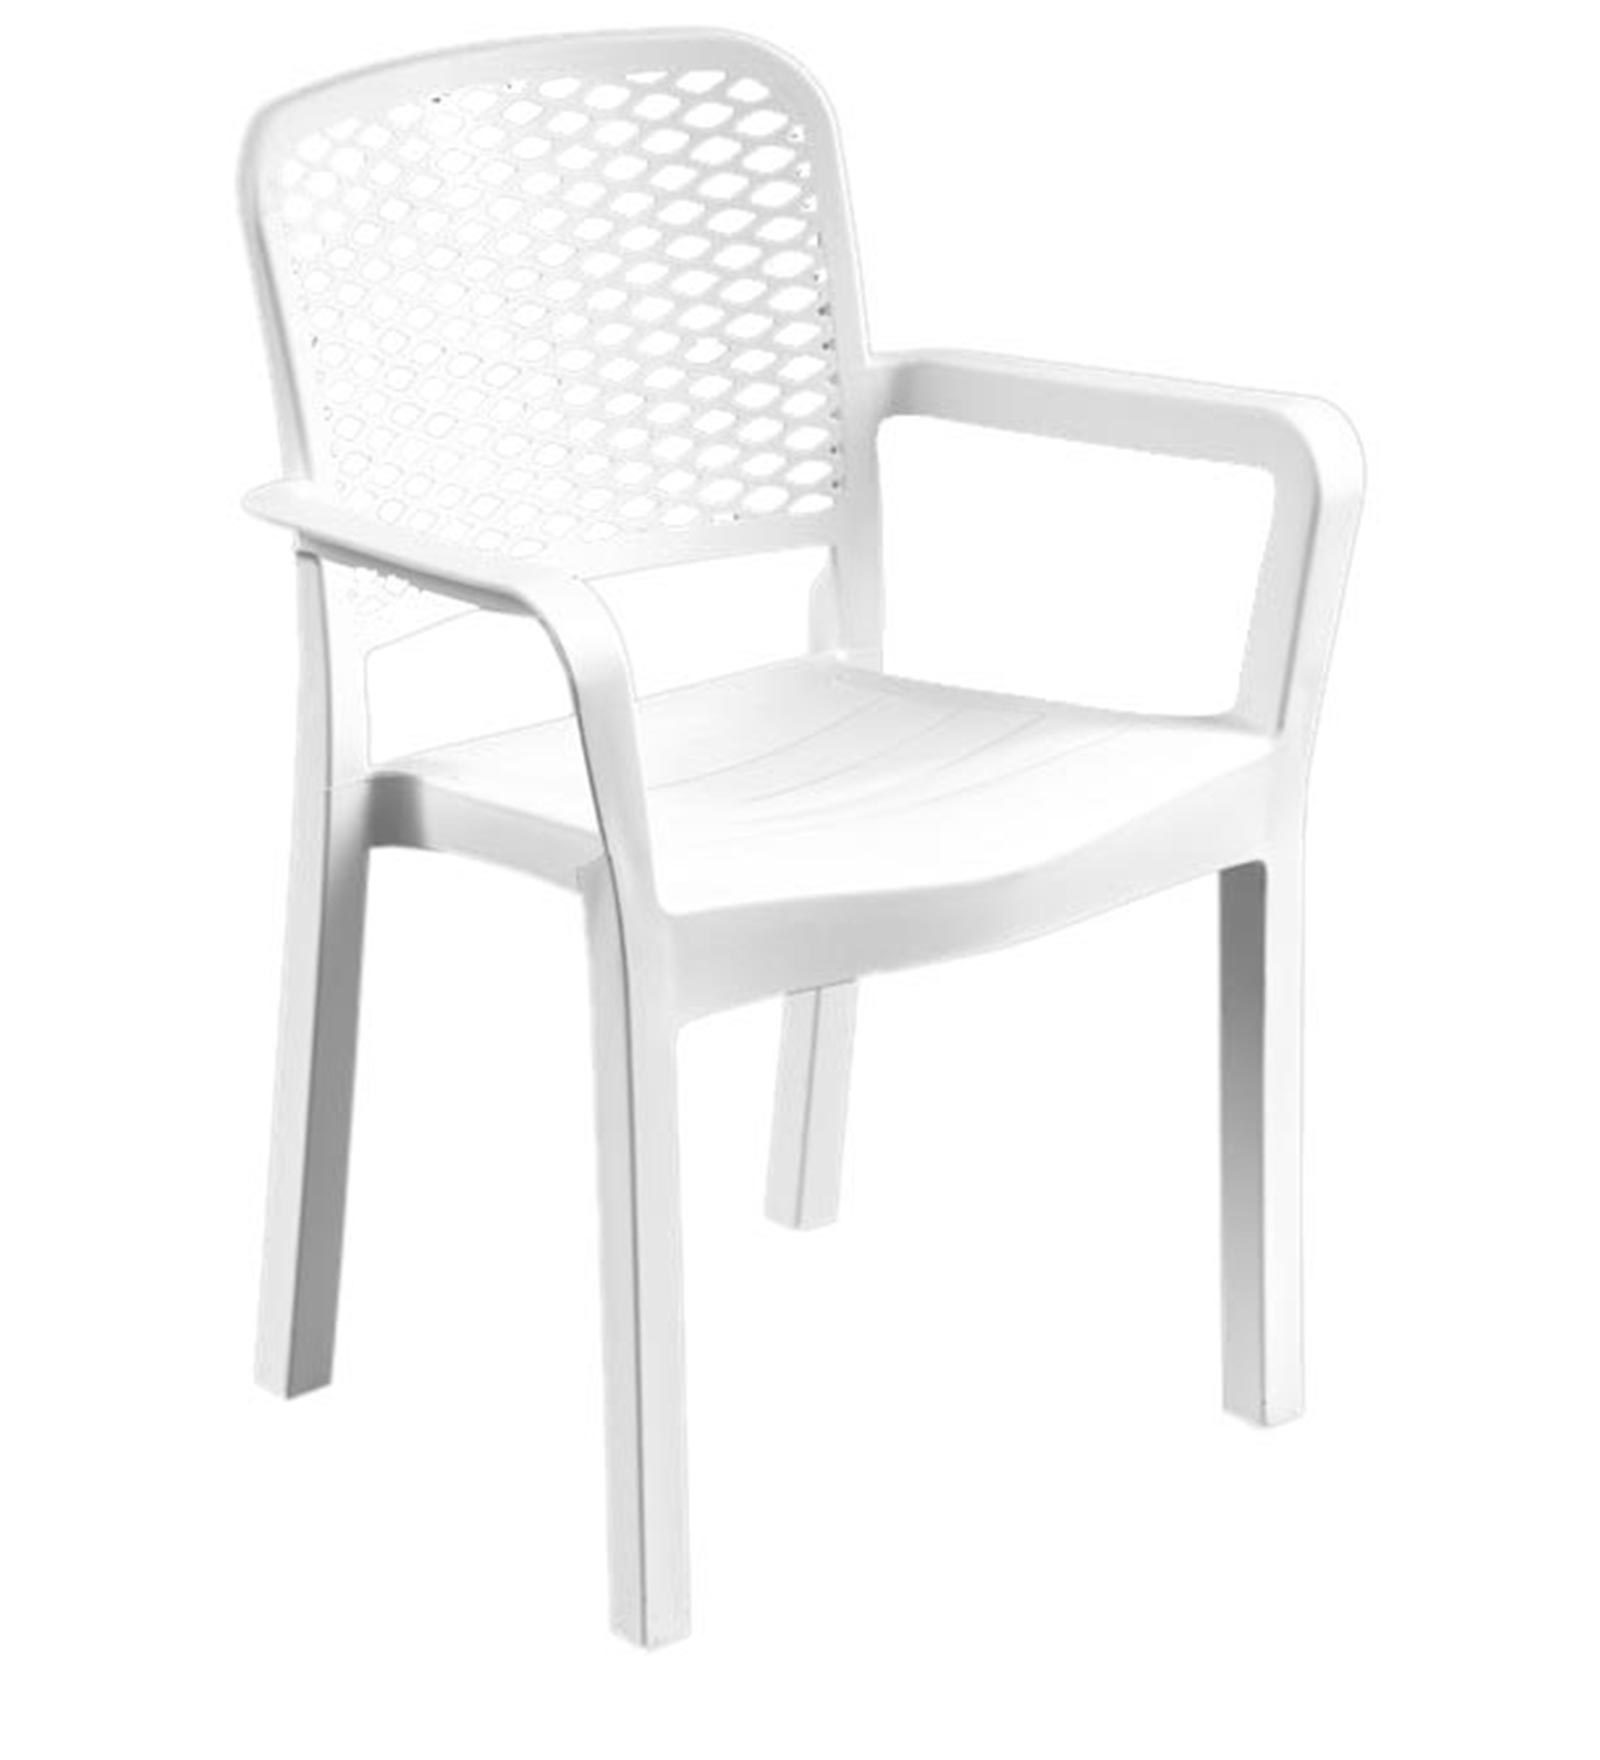Luxury Plastic Chair in White Colour by Italica Furniture: (228, 17, 1372, 1676)
